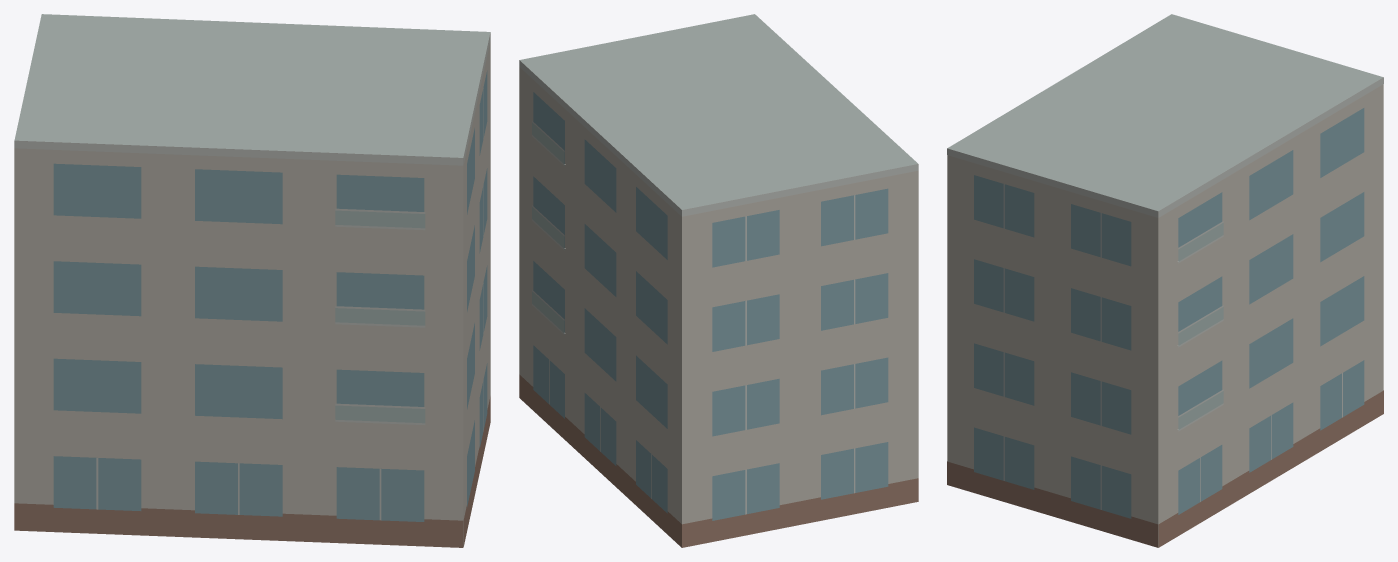
File: survey-upis-32948928.glb
3 views of the same model, side by side, from view 1: azimuth 30°, elevation 25°; view 2: azimuth 150°, elevation 25°; view 3: azimuth 270°, elevation 25° (orthographic). The views are drawn at different scales.
Visible parts, largest first — view 1: survey-upis-32948928.tmp; view 2: survey-upis-32948928.tmp; view 3: survey-upis-32948928.tmp.
Boxes of the visible parts, left/top/right/bottom form: survey-upis-32948928.tmp: left=14, top=14, right=490, bottom=547; survey-upis-32948928.tmp: left=519, top=14, right=918, bottom=547; survey-upis-32948928.tmp: left=947, top=14, right=1383, bottom=547.
Size of the model in its own units: 15.47 by 12.3 by 14.47.
